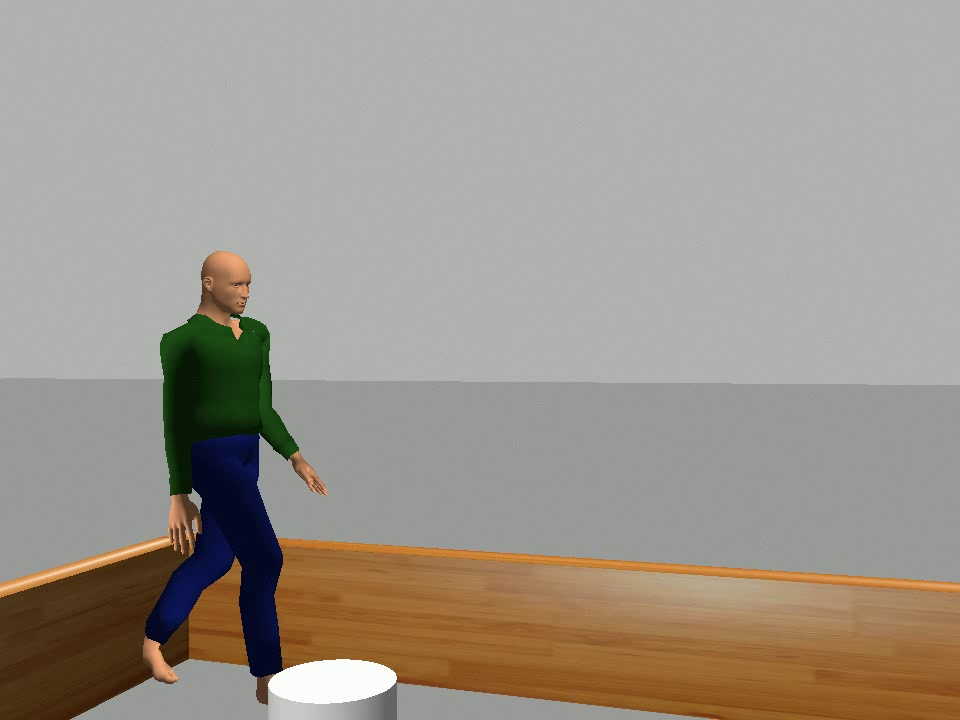person: (140, 244, 334, 711)
